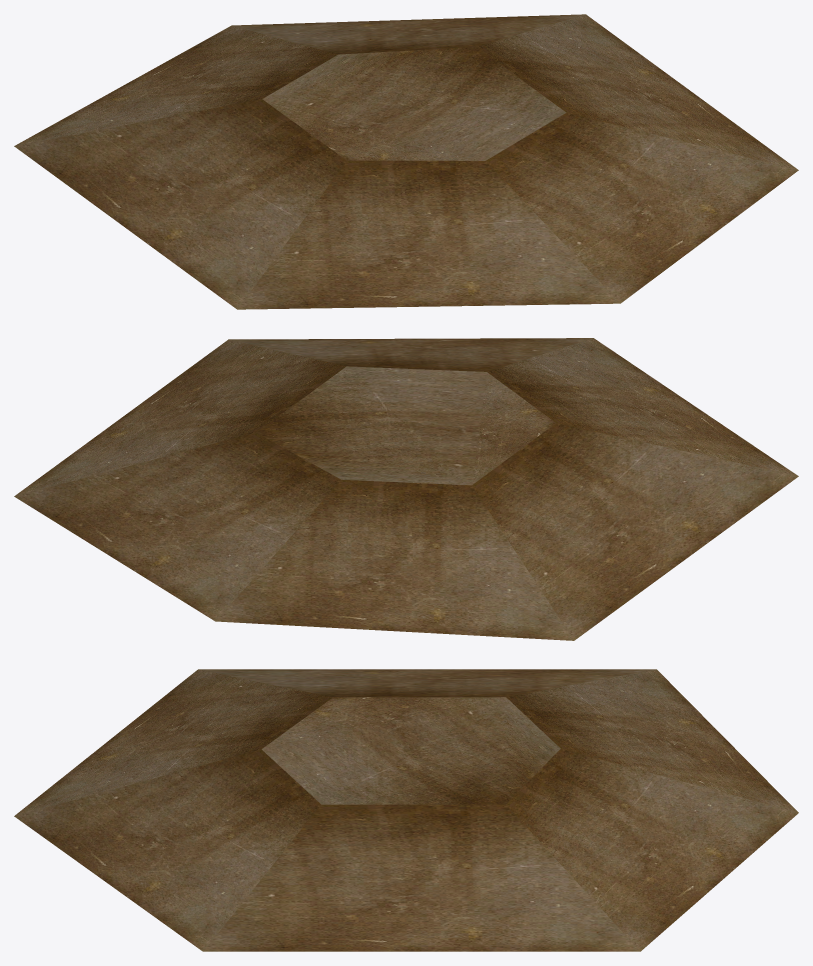
Rendered from thm_tato_luke_farm_garage_l2.fbx.
3 renders of one model, top to bottom at view 1: azimuth 30°, elevation 25°; view 2: azimuth 150°, elevation 25°; view 3: azimuth 270°, elevation 25°, orthographic. The views are drawn at different scales.
Parts seen in each view (by area): view 1: mesh_node; view 2: mesh_node; view 3: mesh_node.
Part boxes in pixels (left/top/right/bottom): mesh_node: left=14, top=14, right=798, bottom=309; mesh_node: left=14, top=338, right=798, bottom=640; mesh_node: left=14, top=669, right=798, bottom=951.
Size of the model in its own units: 12.58 by 1.24 by 14.76.
